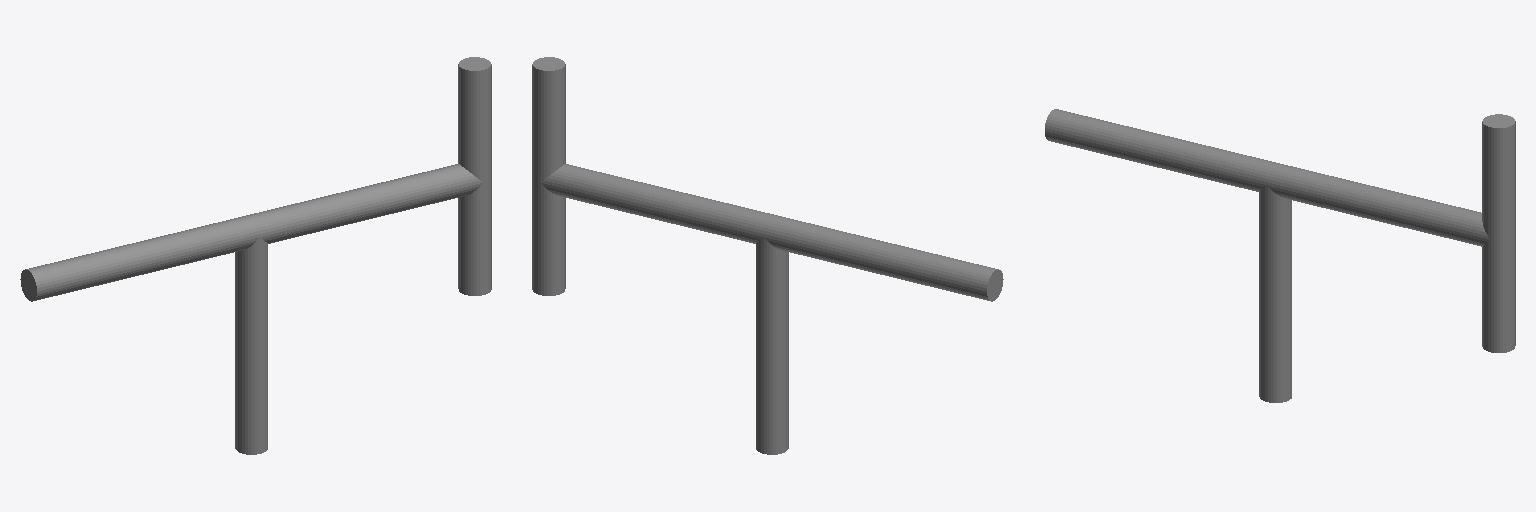
URDF robot description (claw):
<?xml version="1.0"?>
<robot name="claw">

	<material name="grey">
		<color rgba="0.6 0.6 0.6 1"/>
	</material>
	<material name="black">
		<color rgba="0 0 0 1"/>
	</material>
	<material name="white">
		<color rgba="1 1 1 1"/>
	</material>

	<link name="base_link">
		<collision>
			<origin rpy="0 0 0" xyz="0 0 0.13"/>
			<geometry>
				<cylinder length="0.26" radius="0.018"/>
			</geometry>
		</collision>
		<visual>
			<origin rpy="0 0 0" xyz="0 0 0.13"/>
			<geometry>
				<cylinder length="0.26" radius="0.018"/>
			</geometry>
			<material name="grey"/>
		</visual>
		<inertial>
			<mass value="1.0"/>
			<inertia ixx="1.0" ixy="0.0" ixz="0.0" iyy="1.0" iyz="0.0" izz="1.0"/>
		</inertial>
	</link>

	<link name="horizontal">
		<collision>
			<origin rpy="0 1.57075 0" xyz="0 0 0"/>
			<geometry>
				<cylinder length="0.56" radius="0.018"/>
			</geometry>
		</collision>
		<visual>
			<origin rpy="0 1.57075 0" xyz="0 0 0"/>
			<geometry>
				<cylinder length="0.56" radius="0.018"/>
			</geometry>
			<material name="grey"/>
		</visual>
		<inertial>
			<mass value="1.0"/>
			<inertia ixx="1.0" ixy="0.0" ixz="0.0" iyy="1.0" iyz="0.0" izz="1.0"/>
		</inertial>
	</link>

	<joint name="base_to_horizontal" type="prismatic">
		<parent link="base_link"/>
		<child link="horizontal"/>
		<limit effort="1000.0" lower="-0.28" upper="0.28" velocity="0.5"/>
		<origin xyz="0 0 0.26"/>
	</joint>

	<link name="final_arm">
		<collision>
			<origin rpy="0 0 0" xyz="0 0 0"/>
			<geometry>
				<cylinder length="0.27" radius="0.018"/>
			</geometry>
		</collision>
		<visual>
			<origin rpy="0 0 0" xyz="0 0 0"/>
			<geometry>
				<cylinder length="0.27" radius="0.018"/>
			</geometry>
			<material name="grey"/>
		</visual>
		<inertial>
			<mass value="1.0"/>
			<inertia ixx="1.0" ixy="0.0" ixz="0.0" iyy="1.0" iyz="0.0" izz="1.0"/>
		</inertial>
	</link>

	<joint name="horizontal_to_final_arm" type="prismatic">
		<axis xyz="0 0 1"/>
		<parent link="horizontal"/>
		<child link="final_arm"/>
		<limit effort="1000.0" lower="-0.135" upper="0.135" velocity="0.5"/>
		<origin xyz="0.28 0 0"/>
	</joint>

	<link name="left_gripper">
		<collision>
			<origin rpy="0.0 1.57075 0" xyz="0 0 0"/>
			<geometry>
				<mesh filename="package://urdf_tutorial/meshes/l_finger.dae"/>
			</geometry>
		</collision>
		<visual>
			<origin rpy="0.0 1.57075 0" xyz="0 0 0"/>
			<geometry>
				<mesh filename="package://urdf_tutorial/meshes/l_finger.dae"/>
			</geometry>
		</visual>
	</link>

	<joint name="left_gripper_joint" type="revolute">
		<axis xyz="1 0 0"/>
		<limit effort="1000.0" lower="0.0" upper="1.5" velocity="0.5"/>
		<origin rpy="0 0 0" xyz="0 0 -0.135"/>
		<parent link="final_arm"/>
		<child link="left_gripper"/>
	</joint>

	<link name="right_gripper">
		<collision>
			<origin rpy="-3.1415 1.57075 0" xyz="0 0 0"/>
			<geometry>
				<mesh filename="package://urdf_tutorial/meshes/l_finger.dae"/>
			</geometry>
		</collision>
		<visual>
			<origin rpy="-3.1415 1.57075 0" xyz="0 0 0"/>
			<geometry>
				<mesh filename="package://urdf_tutorial/meshes/l_finger.dae"/>
			</geometry>
		</visual>
	</link>

	<joint name="right_gripper_joint" type="revolute">
		<axis xyz="-1 0 0"/>
		<limit effort="1000.0" lower="0.0" upper="1.5" velocity="0.5"/>
		<origin rpy="0 0 0" xyz="0 0 -0.135"/>
		<parent link="final_arm"/>
		<child link="right_gripper"/>
		<mimic joint="left_gripper_joint" multiplier="1" offset="0"/>
	</joint>

</robot>

--- Facts derived from the render (not from the file) ---
3 views of the same robot in one strip: view 1: azimuth 30°, elevation 25°; view 2: azimuth 150°, elevation 25°; view 3: azimuth 330°, elevation 25° (orthographic).
Model claw with 5 links and 4 joints (2 revolute, 2 prismatic), rooted at base_link, posed every joint at zero.
Links seen in each view (by area): view 1: horizontal, final_arm, base_link; view 2: horizontal, final_arm, base_link; view 3: horizontal, final_arm, base_link.
Boxes of the visible links, x1,y1,x2,y2 form: horizontal: (20, 164, 482, 301); final_arm: (458, 57, 491, 295); base_link: (235, 237, 267, 454); horizontal: (541, 164, 1003, 301); final_arm: (532, 57, 565, 295); base_link: (756, 237, 788, 454); horizontal: (1045, 109, 1489, 246); final_arm: (1482, 114, 1515, 352); base_link: (1259, 186, 1291, 402).
Bounding box of the posed robot: 0.578 × 0.036 × 0.395 m (x, y, z).
Meshes: 1 distinct files referenced, 0 mesh visuals loaded (none loaded); not drawn: 2 (reference not matched to a file when rendering).